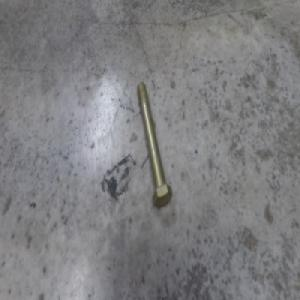Bolt: (136, 82, 172, 207)
